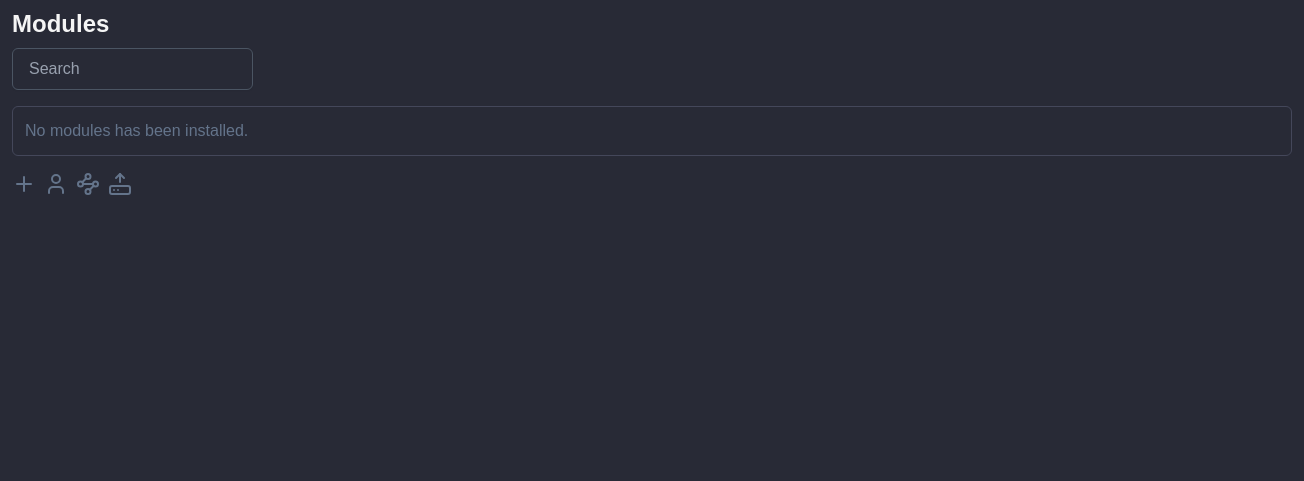
Test: labels an untouched draft Cancel and returns to the list without adding it
Step 1. Click the 1st button → click(24, 184), box [12,172,36,196]
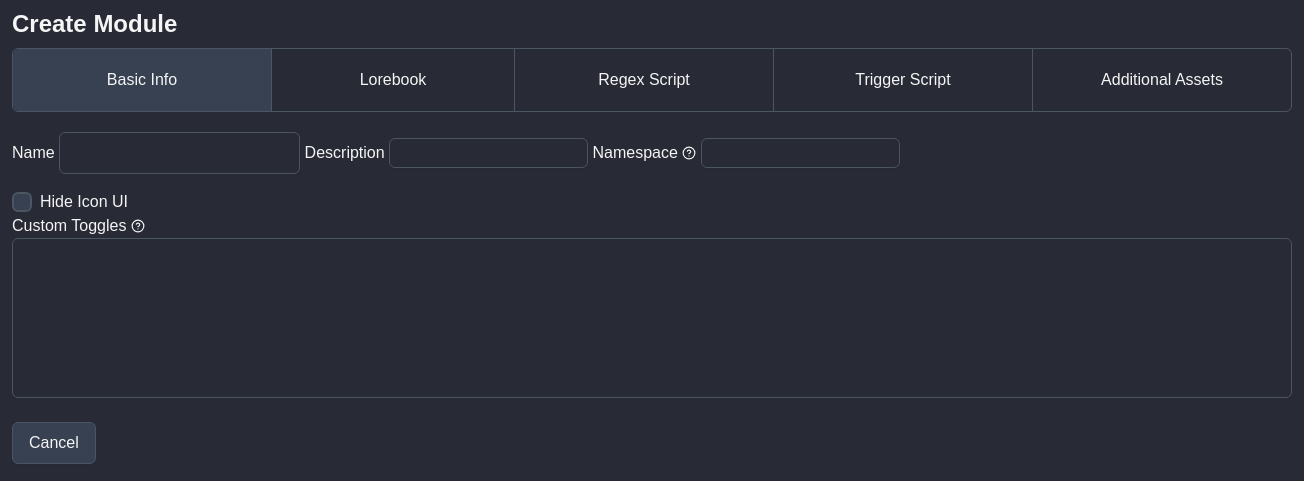
expect the heading "Create Module" is shown: met, box [12,10,177,37]
expect the button with class "mt-6" reads "Cancel": met
Step 2. Click the button with class "mt-6" → click(54, 443), box [12,422,96,464]
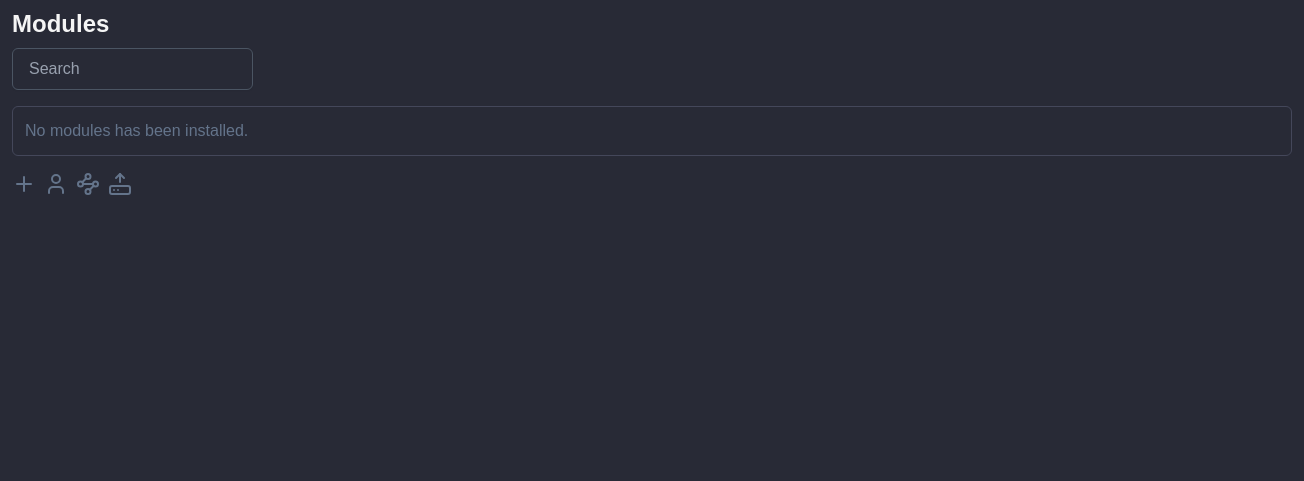
expect the heading "Modules" is shown: met, box [12,10,109,37]
expect the text "No modules has been installed." is shown: met, box [25,122,248,139]
